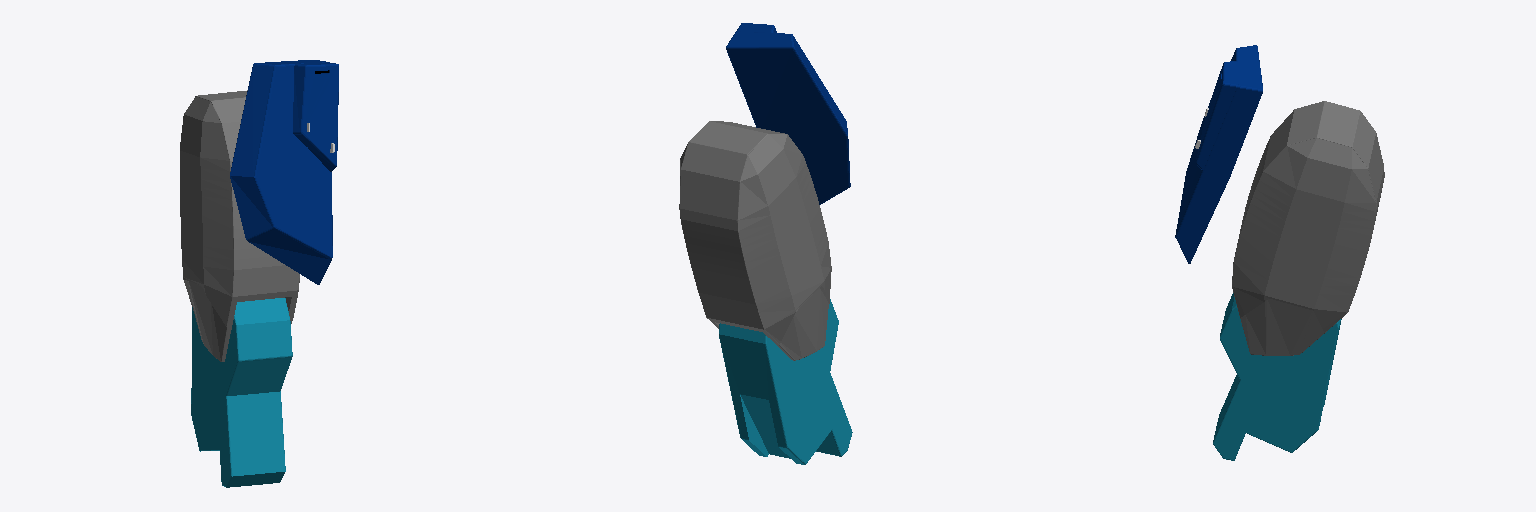
The model's file is leftLeg.obj.
3 views of the same model, side by side, from view 1: azimuth 30°, elevation 25°; view 2: azimuth 150°, elevation 25°; view 3: azimuth 270°, elevation 25° (orthographic).
Parts seen in each view (by area): view 1: leftLeg freedom:____thigh02, freedom:ChafCaja1097 leftLeg, leftLeg freedom:_____thigh____leg_04, leftLeg freedom:ChafCaja1096; view 2: leftLeg freedom:____thigh02, leftLeg freedom:_____thigh____leg_04, freedom:ChafCaja1097 leftLeg; view 3: leftLeg freedom:____thigh02, leftLeg freedom:_____thigh____leg_04, freedom:ChafCaja1097 leftLeg, leftLeg freedom:ChafCaja1096.
Boxes of the visible parts, box(x1,y1,x2,y2) form: leftLeg freedom:____thigh02: box(180, 90, 299, 361); freedom:ChafCaja1097 leftLeg: box(230, 60, 332, 284); leftLeg freedom:_____thigh____leg_04: box(191, 298, 292, 487); leftLeg freedom:ChafCaja1096: box(293, 62, 338, 171); leftLeg freedom:____thigh02: box(679, 121, 831, 360); leftLeg freedom:_____thigh____leg_04: box(719, 299, 852, 464); freedom:ChafCaja1097 leftLeg: box(726, 32, 850, 204); leftLeg freedom:____thigh02: box(1232, 101, 1384, 355); leftLeg freedom:_____thigh____leg_04: box(1213, 293, 1341, 460); freedom:ChafCaja1097 leftLeg: box(1175, 45, 1262, 263); leftLeg freedom:ChafCaja1096: box(1196, 61, 1237, 170).
Bounding box in the file's own units: 12.96 × 46.63 × 21.37.